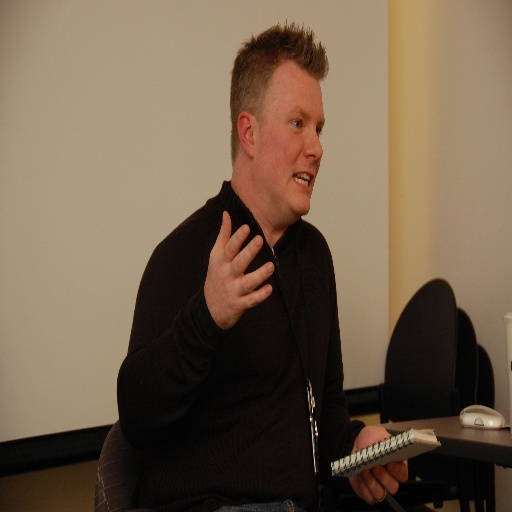hand: (193, 215, 276, 328), (345, 420, 408, 506)
